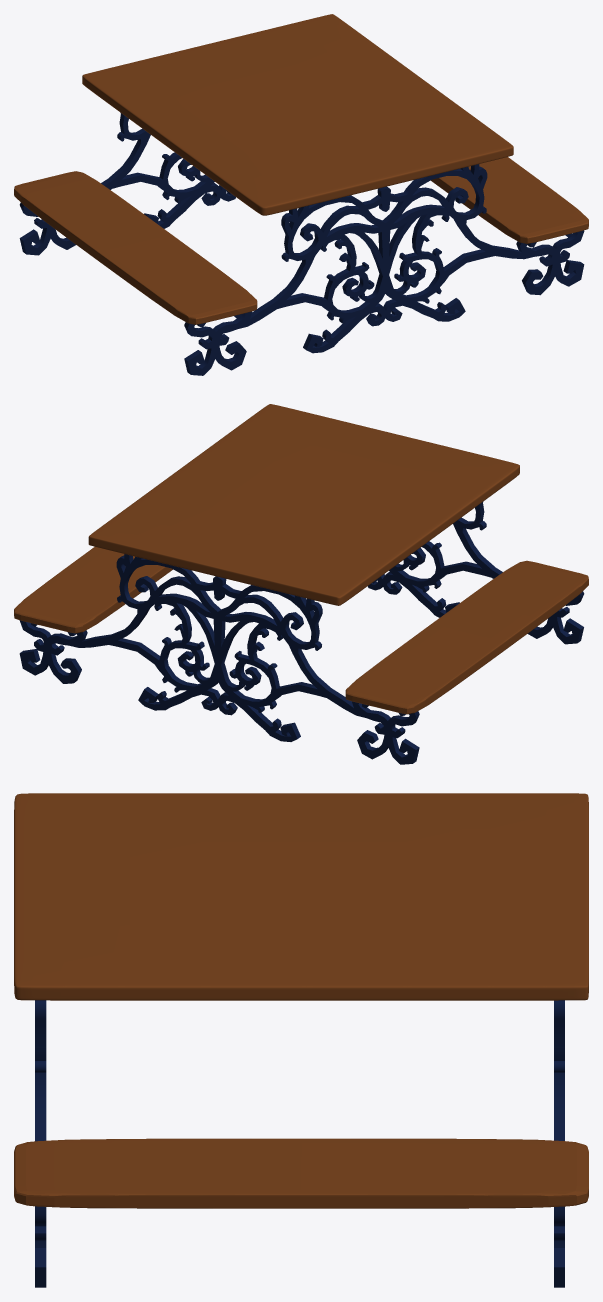
The model's file is Mesh_UVPicnicTable_2.fbx.
The picture shows the model from 3 angles, top to bottom: view 1: azimuth 30°, elevation 25°; view 2: azimuth 150°, elevation 25°; view 3: azimuth 270°, elevation 25°; orthographic projection. The views are drawn at different scales.
Visible parts, largest first — view 1: Tabletop, TableLeg, Bench2, Bench2.001, TableLeg.001; view 2: Tabletop, TableLeg.001, Bench2, Bench2.001, TableLeg; view 3: Tabletop, Bench2.001, TableLeg, TableLeg.001.
Part boxes in pixels (x1=…): Tabletop: x1=82, y1=14, x2=513, y2=215; TableLeg: x1=184, y1=164, x2=584, y2=375; Bench2: x1=14, y1=171, x2=257, y2=324; Bench2.001: x1=431, y1=157, x2=588, y2=243; TableLeg.001: x1=19, y1=112, x2=235, y2=255; Tabletop: x1=88, y1=404, x2=519, y2=605; TableLeg.001: x1=19, y1=554, x2=419, y2=764; Bench2: x1=345, y1=560, x2=588, y2=714; Bench2.001: x1=14, y1=547, x2=172, y2=633; TableLeg: x1=368, y1=501, x2=584, y2=644; Tabletop: x1=14, y1=793, x2=588, y2=1000; Bench2.001: x1=14, y1=1138, x2=588, y2=1208; TableLeg: x1=35, y1=1000, x2=46, y2=1287; TableLeg.001: x1=554, y1=1000, x2=564, y2=1287.
Size of the model in its own units: 500 by 195 by 390.
